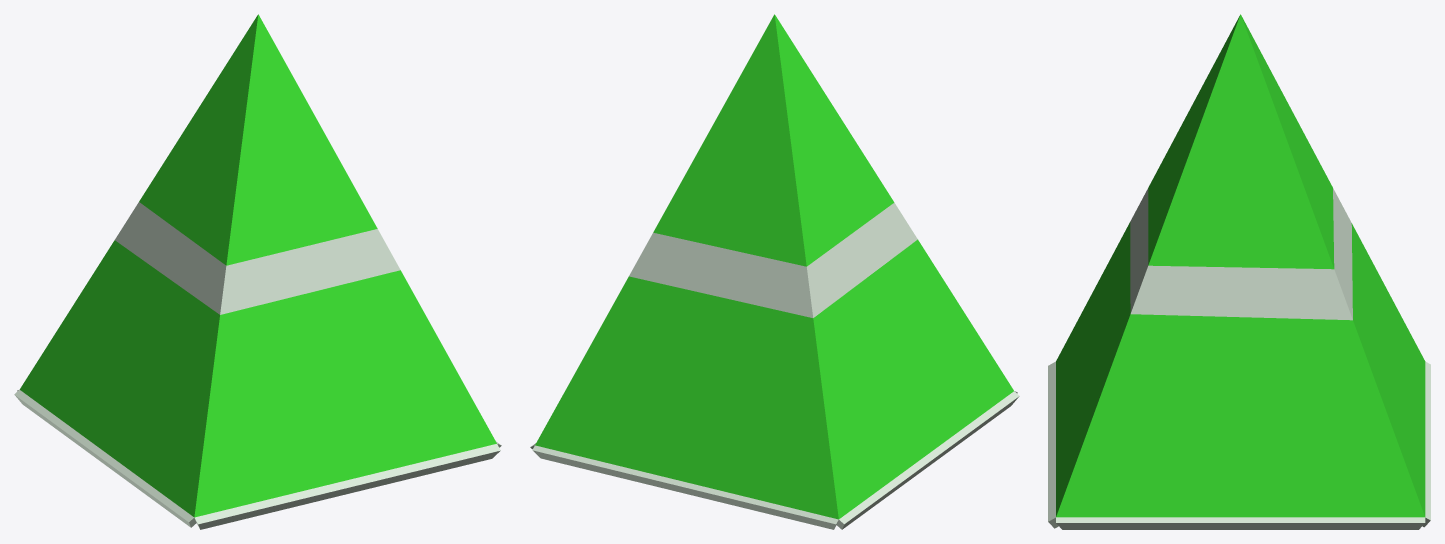
Rendered from santan.glb.
3 renders of one model, left to right at view 1: azimuth 30°, elevation 25°; view 2: azimuth 150°, elevation 25°; view 3: azimuth 270°, elevation 25°, orthographic. The views are drawn at different scales.
Parts seen in each view (by area): view 1: Cube; view 2: Cube; view 3: Cube.
Boxes of the visible parts, x1=… form: Cube: x1=14, y1=14, x2=501, y2=529; Cube: x1=530, y1=14, x2=1019, y2=529; Cube: x1=1048, y1=14, x2=1430, y2=529.
Size of the model in its own units: 0.1607 by 0.2042 by 0.1612.
